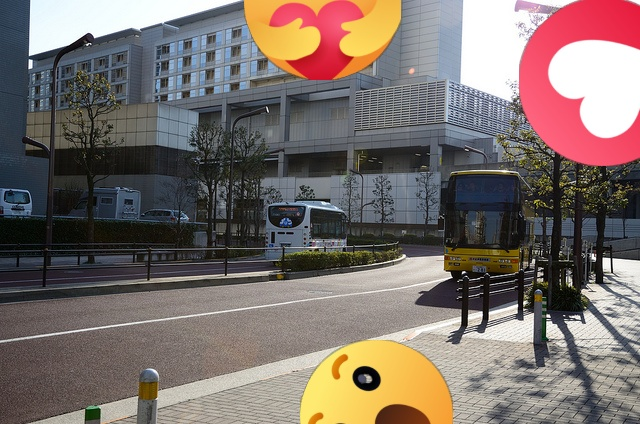care: (244, 0, 401, 80)
love: (519, 0, 640, 166)
wow: (300, 340, 453, 424)
